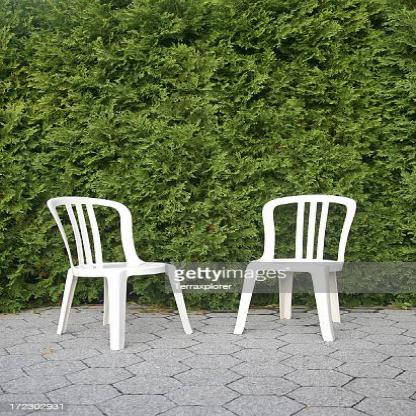chair: (45, 193, 203, 353), (233, 196, 352, 341)
